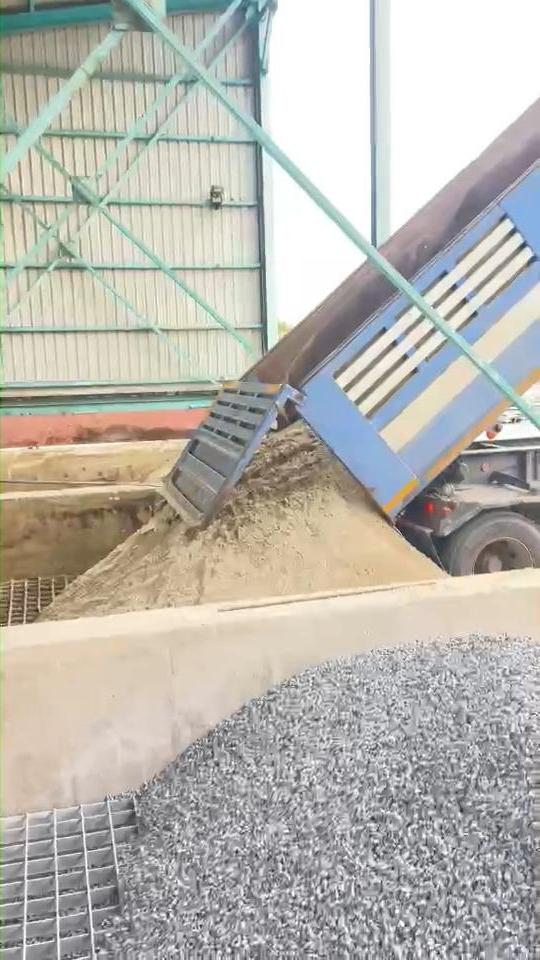gravel: (109, 637, 540, 959)
sand: (42, 426, 445, 618)
